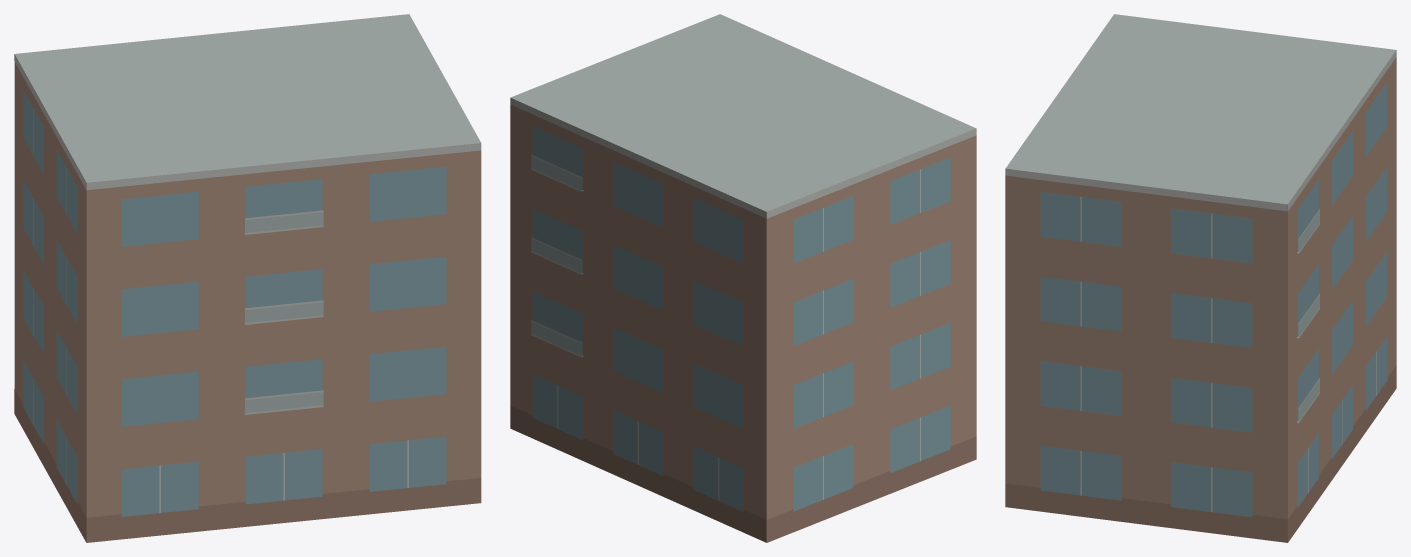
File: survey-upis-32638385.glb
The picture shows the model from 3 angles, left to right: view 1: azimuth 30°, elevation 25°; view 2: azimuth 150°, elevation 25°; view 3: azimuth 270°, elevation 25°; orthographic projection. The views are drawn at different scales.
Parts seen in each view (by area): view 1: survey-upis-32638385.tmp; view 2: survey-upis-32638385.tmp; view 3: survey-upis-32638385.tmp.
Boxes of the visible parts, left/top/right/bottom form: survey-upis-32638385.tmp: left=14, top=14, right=481, bottom=542; survey-upis-32638385.tmp: left=510, top=14, right=976, bottom=542; survey-upis-32638385.tmp: left=1005, top=14, right=1396, bottom=542.
Size of the model in its own units: 14.37 by 11.9 by 12.48.
